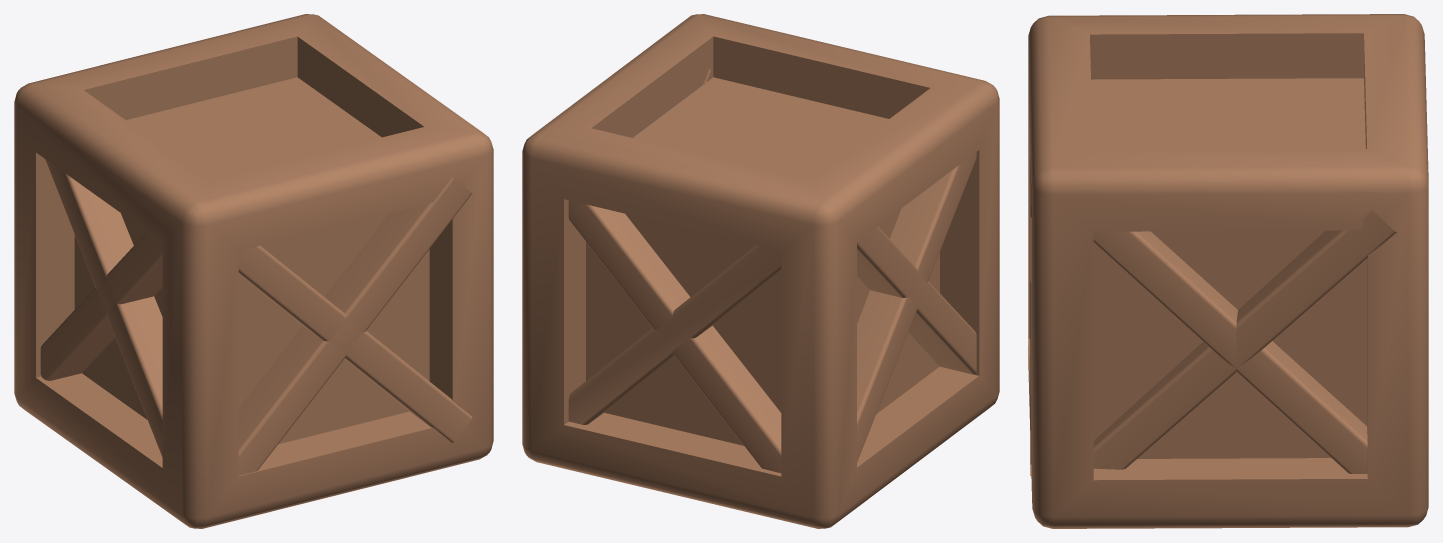
File: tutorial.dae
The picture shows the model from 3 angles, left to right: view 1: azimuth 30°, elevation 25°; view 2: azimuth 150°, elevation 25°; view 3: azimuth 270°, elevation 25°; orthographic projection. The views are drawn at different scales.
Parts seen in each view (by area): view 1: plank.003; view 2: plank.003; view 3: plank.003.
Part boxes in pixels (x1,y1,x2,y2): plank.003: [14, 14, 493, 528]; plank.003: [522, 14, 999, 528]; plank.003: [1028, 14, 1428, 528].
Size of the model in its own units: 2.02 by 2.02 by 2.
